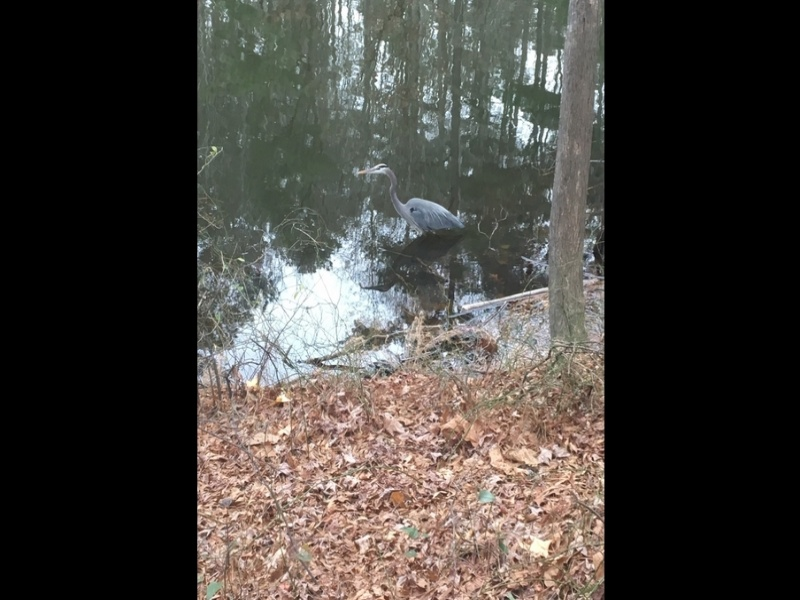heron: (354, 161, 464, 246)
